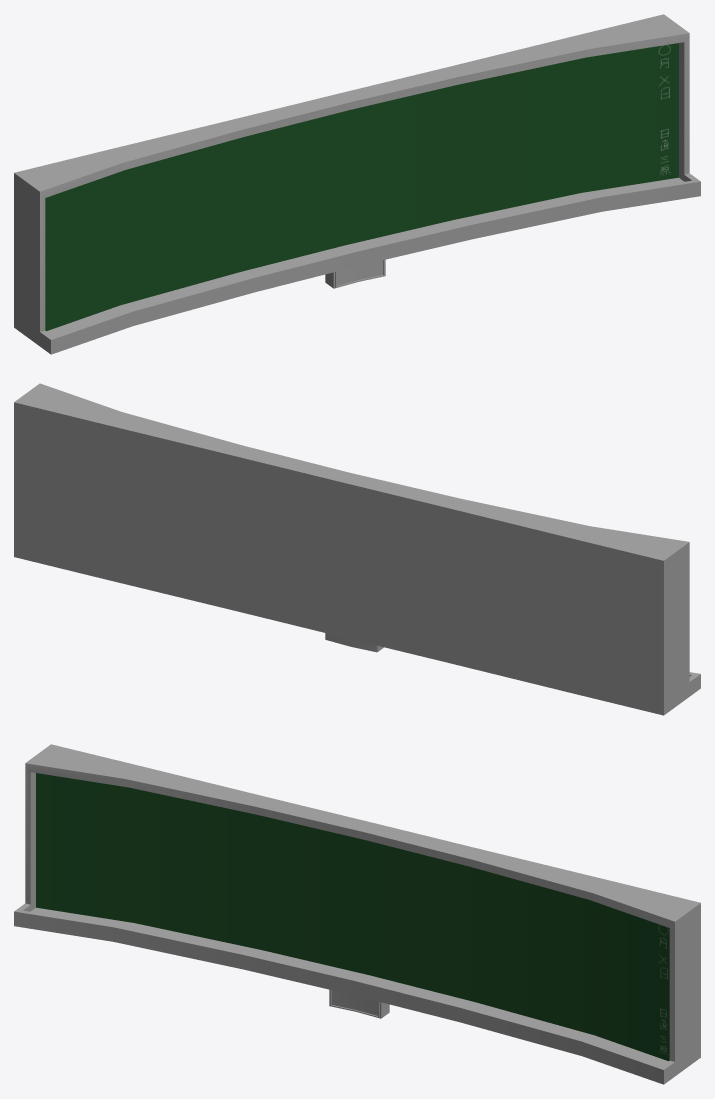
Rendered from kokubann.fbx.
3 views of the same model, one above another, from view 1: azimuth 30°, elevation 25°; view 2: azimuth 150°, elevation 25°; view 3: azimuth 330°, elevation 25° (orthographic).
Visible parts, largest first — view 1: pCube1; view 2: pCube1; view 3: pCube1.
Boxes of the visible parts, left/top/right/bottom form: pCube1: left=14, top=14, right=700, bottom=354; pCube1: left=14, top=383, right=700, bottom=715; pCube1: left=14, top=744, right=700, bottom=1084.
Size of the model in its own units: 11.09 by 2.83 by 1.1.
